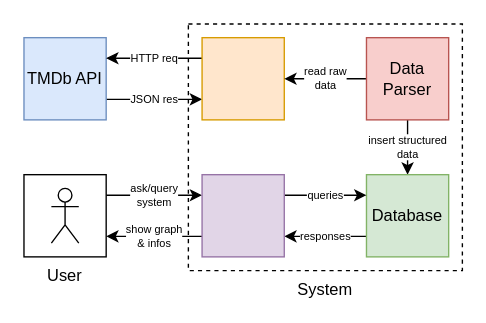
The diagram is 486 pixels wide and 323 high, and some of its shapes have lost their labels. Here are the shapes that lost their labels. From the top down, the centre of each, then its label:
the point at 242,78: Crawler
the point at 242,215: Frontend
